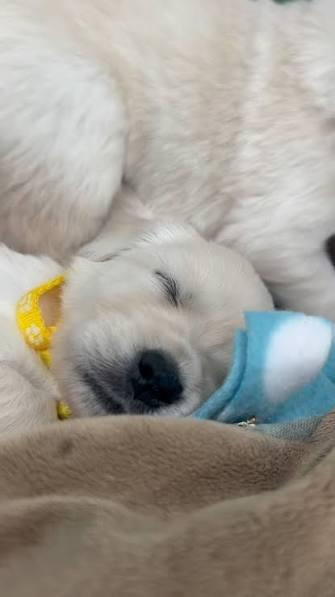non-dog: (0, 0, 335, 321)
puppy-dog: (0, 226, 276, 449)
